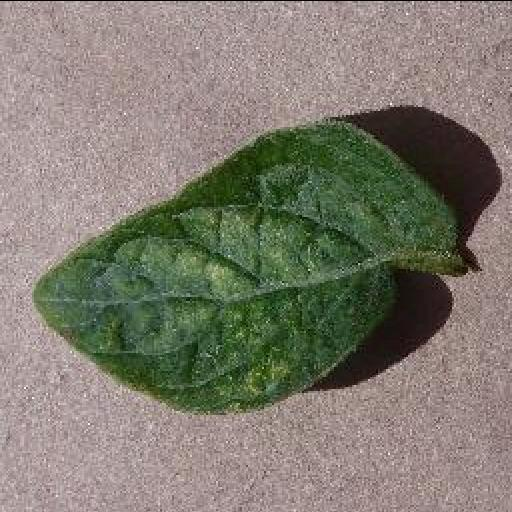disease_tomato: (28, 122, 458, 414)
